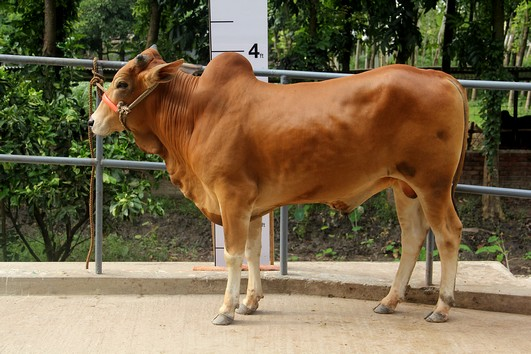cow: (86, 35, 479, 330)
